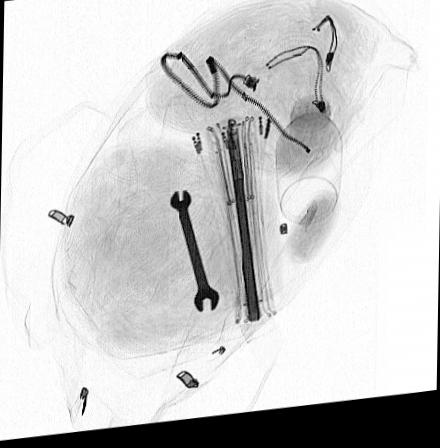Wrench: (167, 193, 222, 320)
